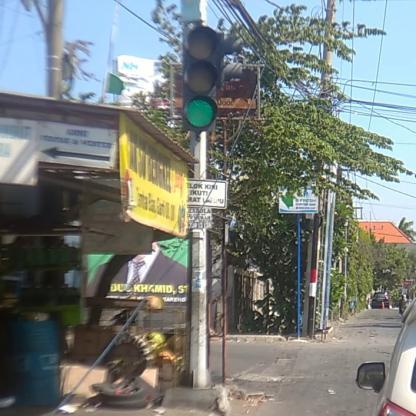green: (181, 26, 218, 132)
